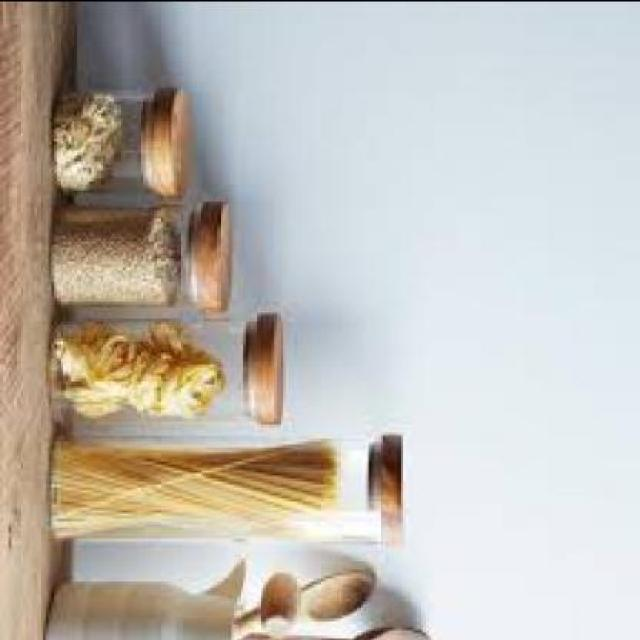GLASS: (54, 434, 383, 546), (55, 323, 252, 426), (54, 208, 197, 312), (57, 92, 160, 197)
